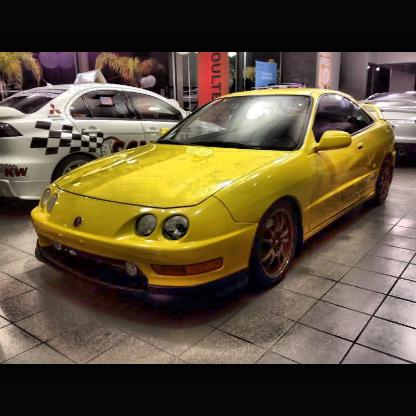Acura Integra Type R 2001: (31, 91, 397, 328)
